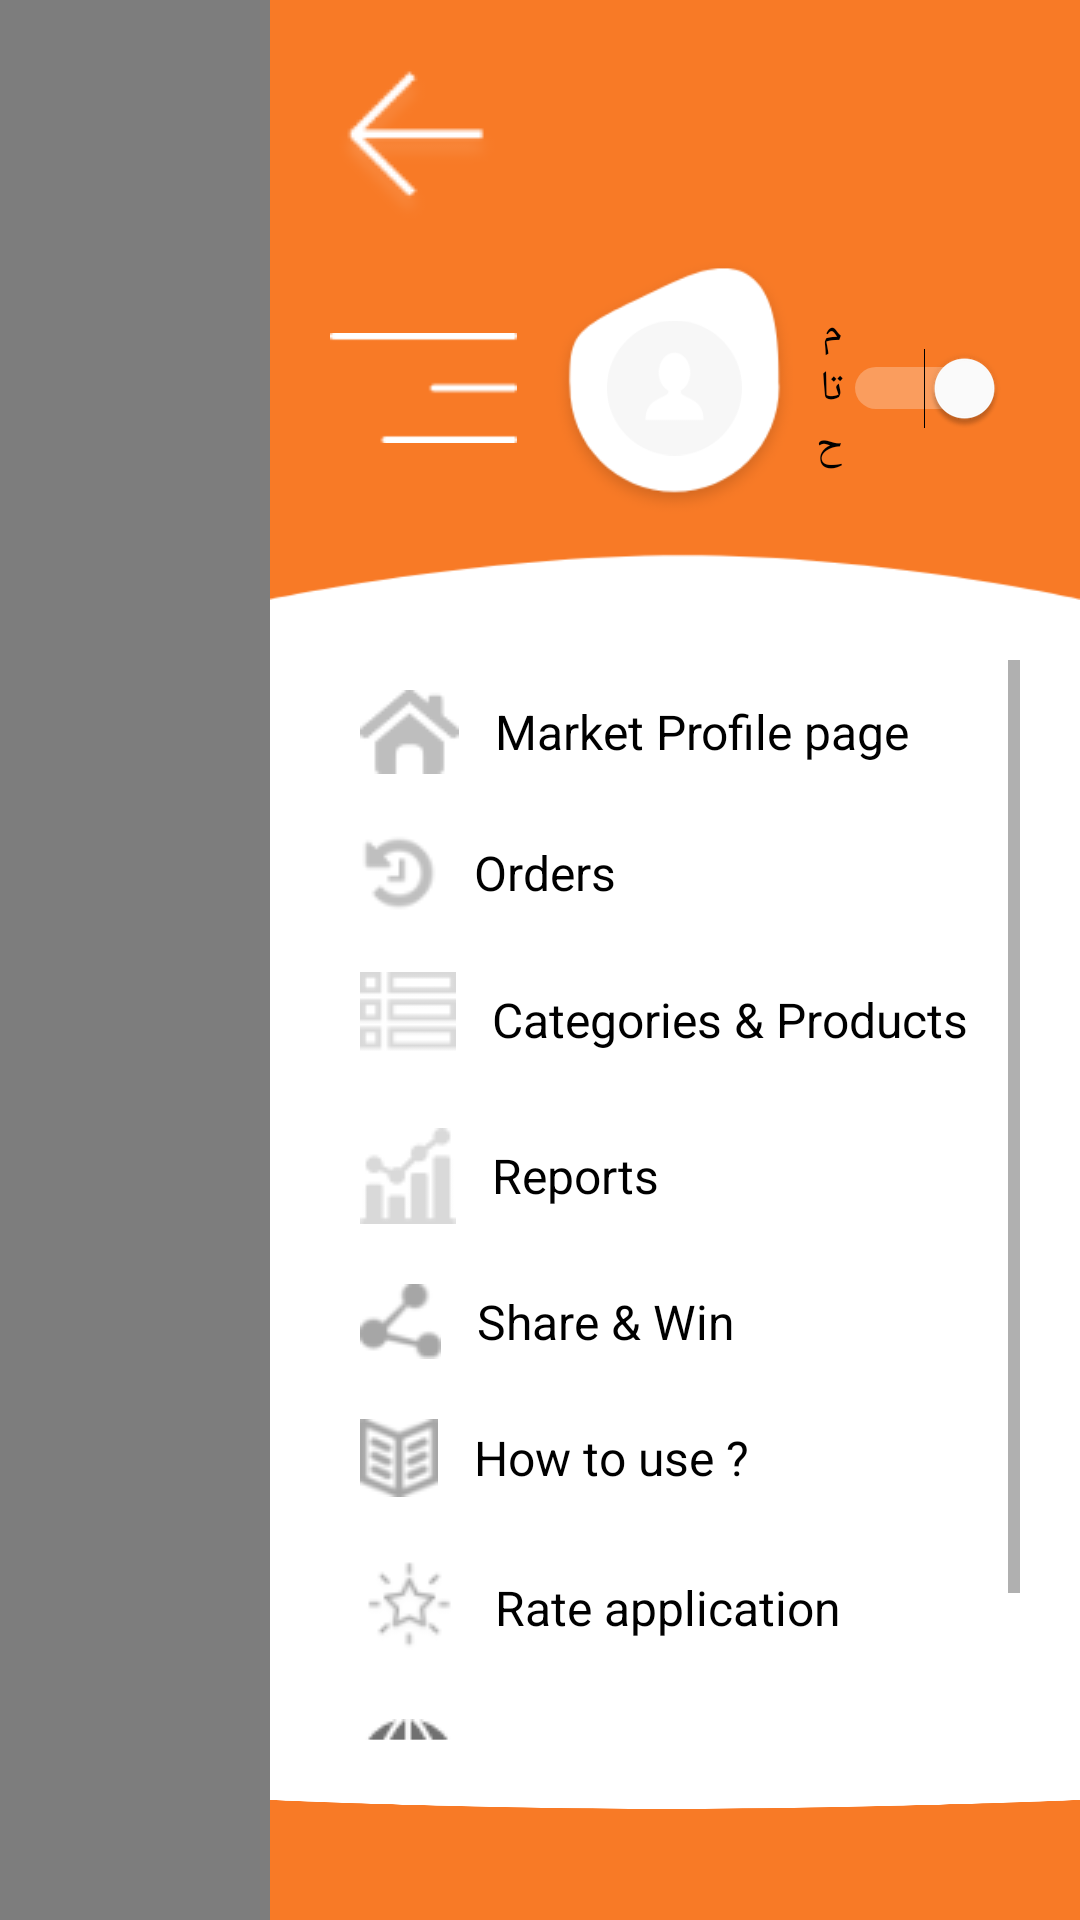

Icons on this 1080w x 1920h Android screen, each with the point to tap as (x=x, y=y):
back: (x=416, y=134)
drawer dashes: (x=423, y=388)
user: (x=674, y=382)
